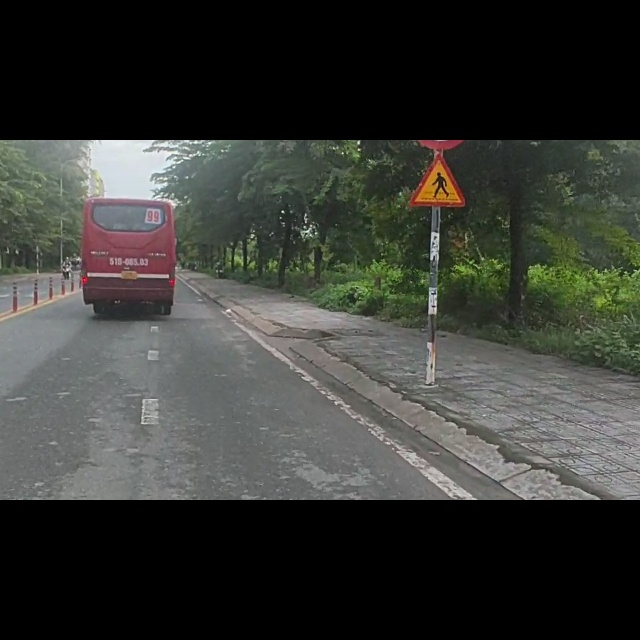bien_nguy_hiem: (409, 24, 467, 126)
